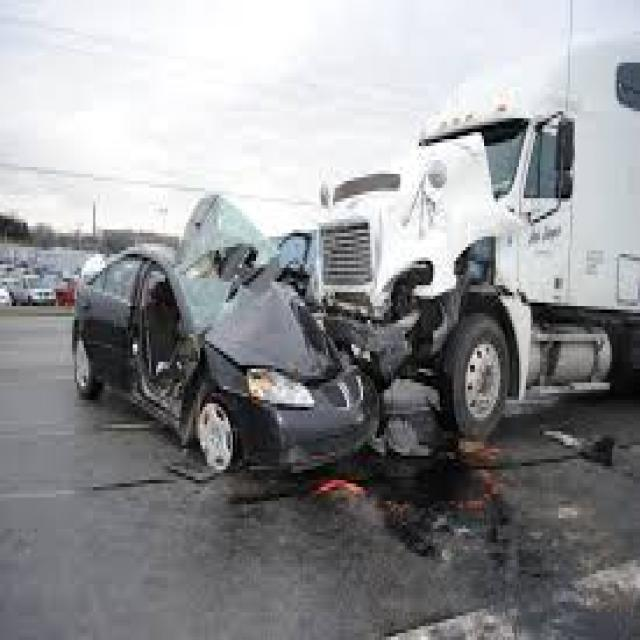accident: (40, 172, 598, 554)
